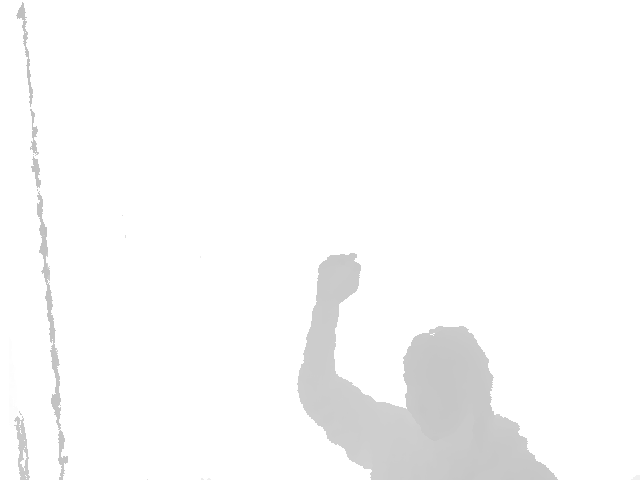hand: (317, 252, 361, 305)
head: (403, 325, 494, 439)
person: (296, 252, 559, 480)
